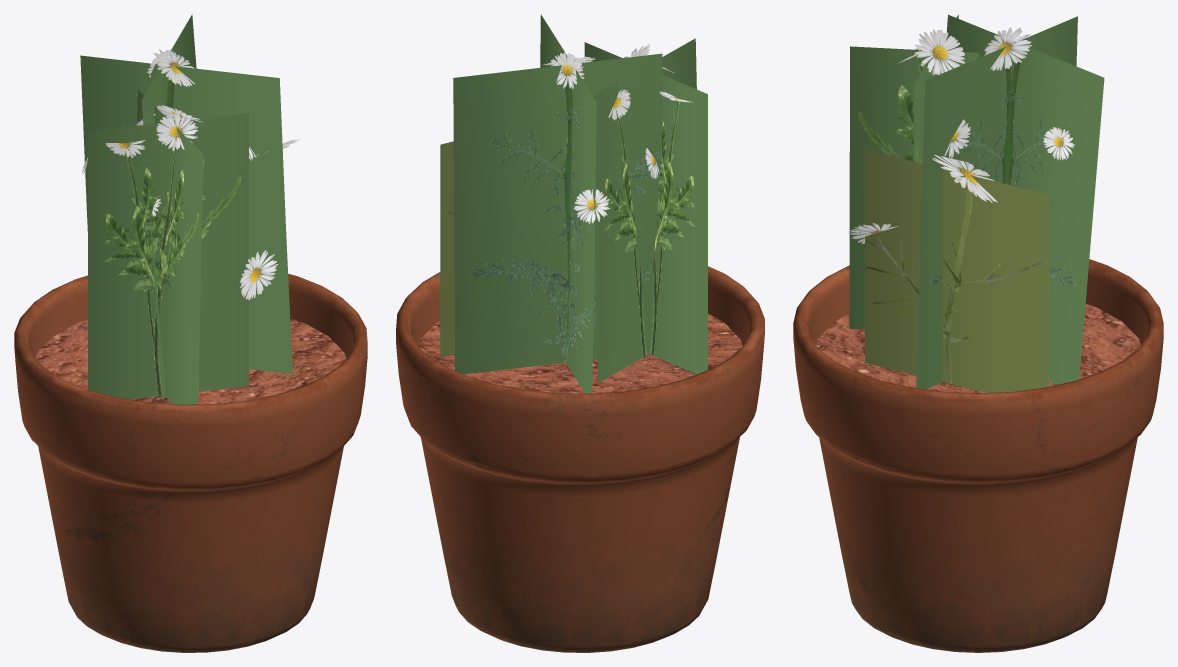
File: maceta_margaritas.obj
The picture shows the model from 3 angles, left to right: view 1: azimuth 30°, elevation 25°; view 2: azimuth 150°, elevation 25°; view 3: azimuth 270°, elevation 25°; orthographic projection. The views are drawn at different scales.
Visible parts, largest first — view 1: maceta_margaritas; view 2: maceta_margaritas; view 3: maceta_margaritas.
Boxes of the visible parts, box(x1,y1,x2,y2) form: maceta_margaritas: box(14, 14, 367, 652); maceta_margaritas: box(396, 14, 764, 652); maceta_margaritas: box(793, 14, 1163, 652).
Bounding box in the file's own units: 0.3521 × 0.6 × 0.3521.
